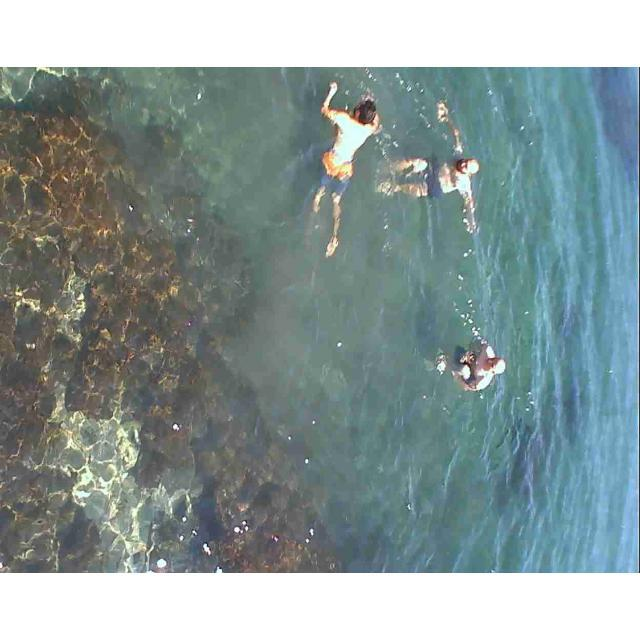human: (374, 100, 475, 236), (316, 75, 379, 263), (453, 330, 505, 397)
